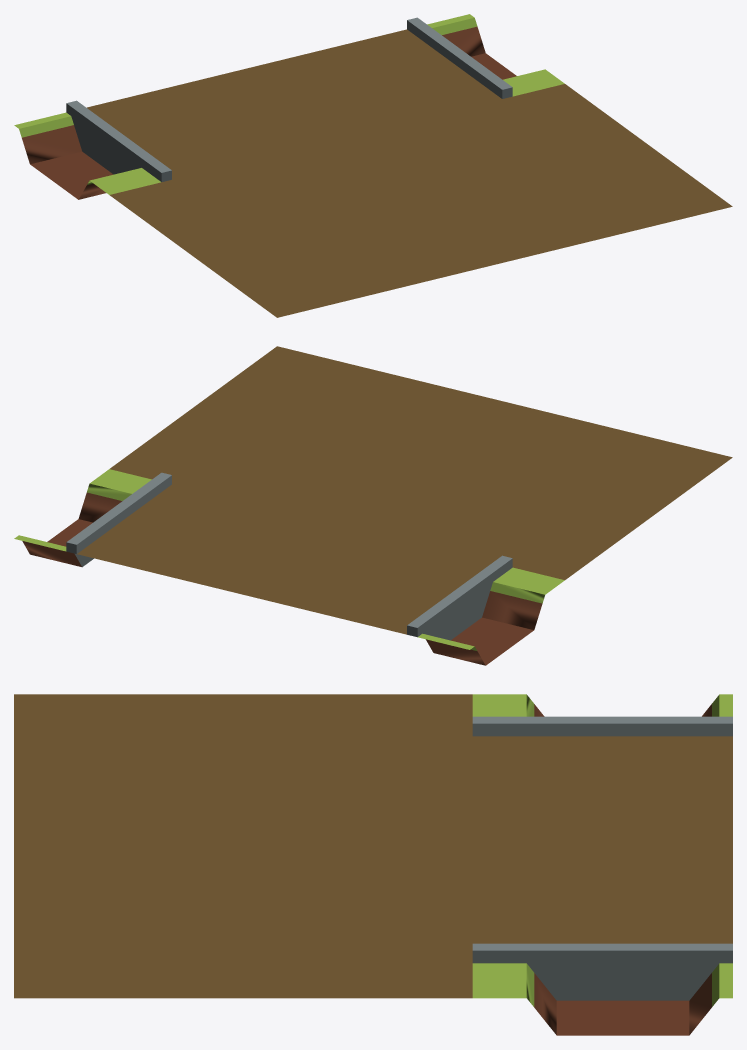
The model's file is road_Dirt_Driveway.fbx.
3 renders of one model, top to bottom at view 1: azimuth 30°, elevation 25°; view 2: azimuth 150°, elevation 25°; view 3: azimuth 270°, elevation 25°, orthographic. The views are drawn at different scales.
Parts seen in each view (by area): view 1: road_Dirt_Driveway; view 2: road_Dirt_Driveway; view 3: road_Dirt_Driveway.
Boxes of the visible parts, <box> form: road_Dirt_Driveway: <box>14,14,732,317</box>; road_Dirt_Driveway: <box>14,346,732,665</box>; road_Dirt_Driveway: <box>14,694,732,1035</box>.
Bounding box in the file's own units: 10 × 0.7696 × 10.
Materials: 1 (1 with a texture image).
